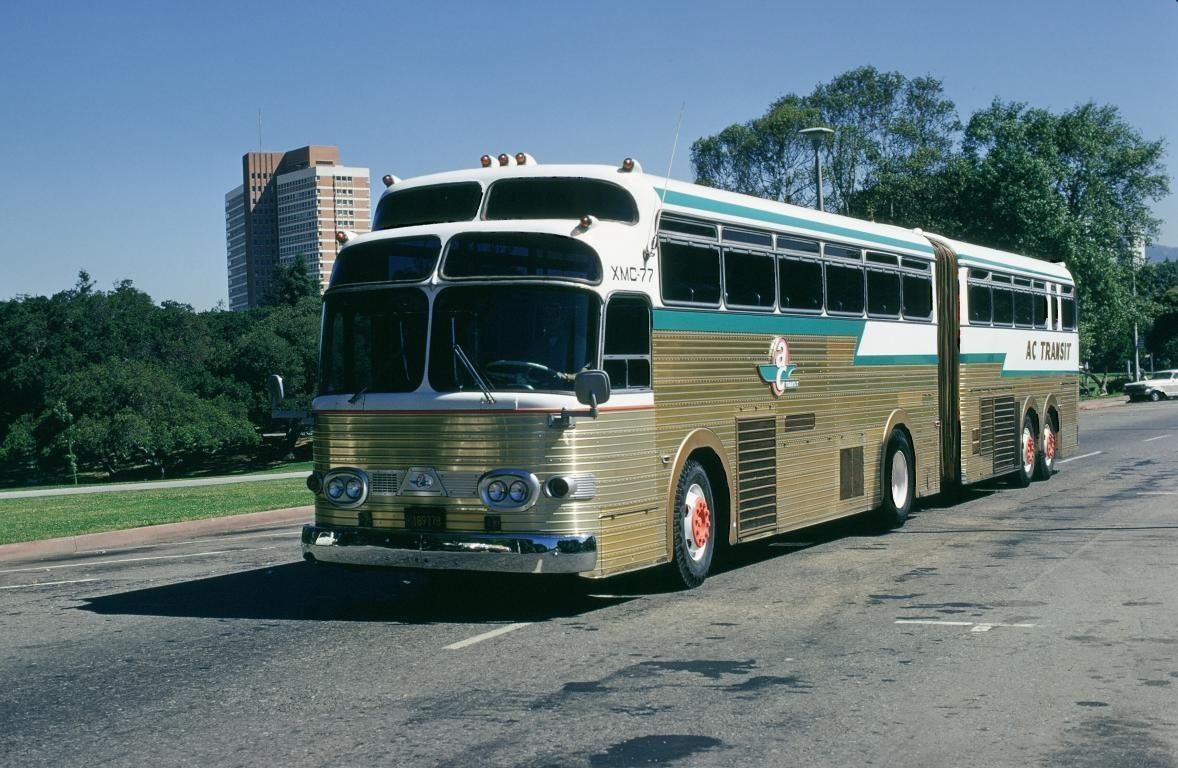Bus: (301, 155, 1084, 593)
